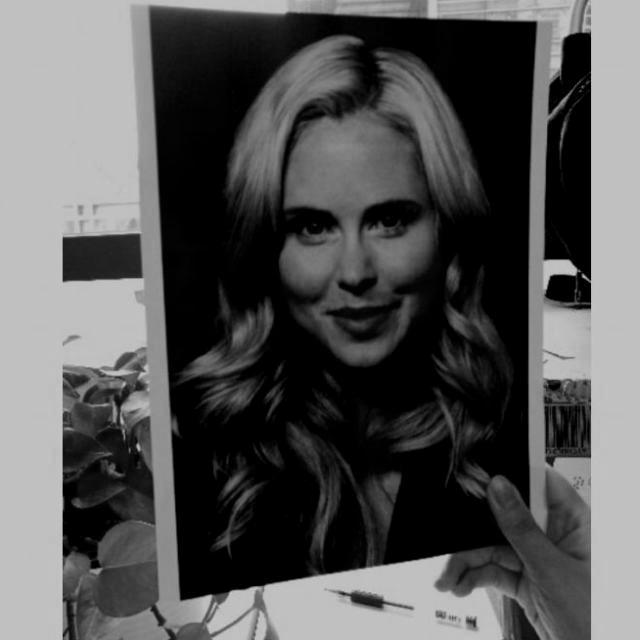fake: (123, 3, 558, 607)
